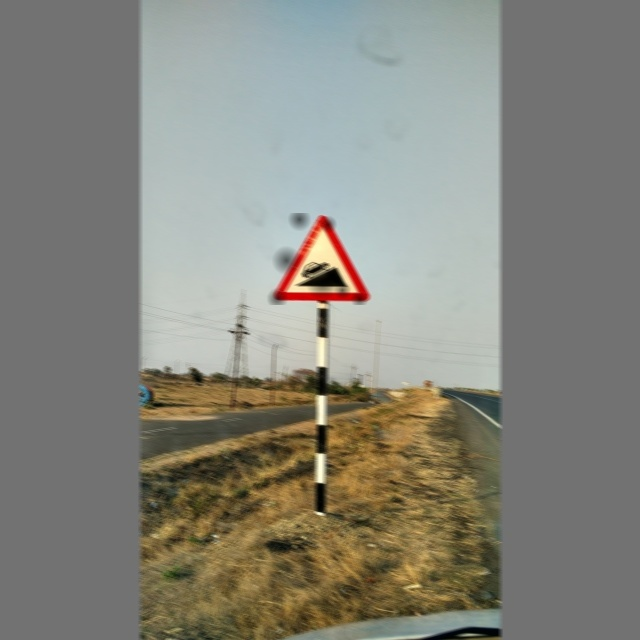Steep_Ascent: (266, 213, 375, 305)
